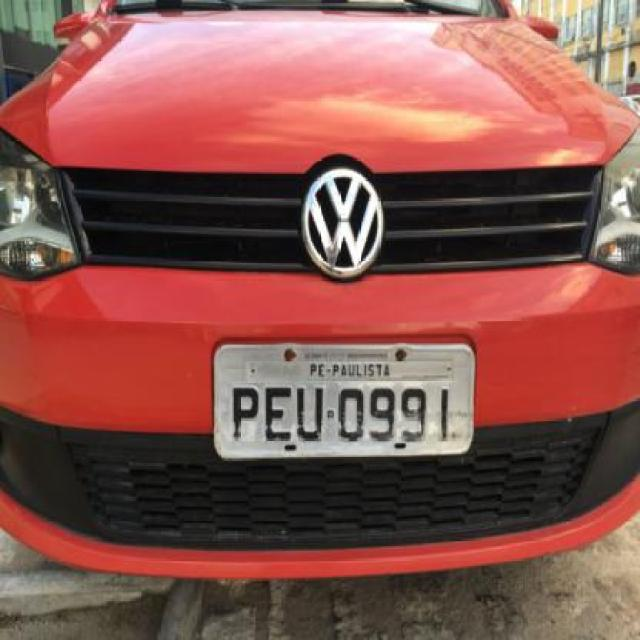old_plate: (206, 329, 483, 470)
